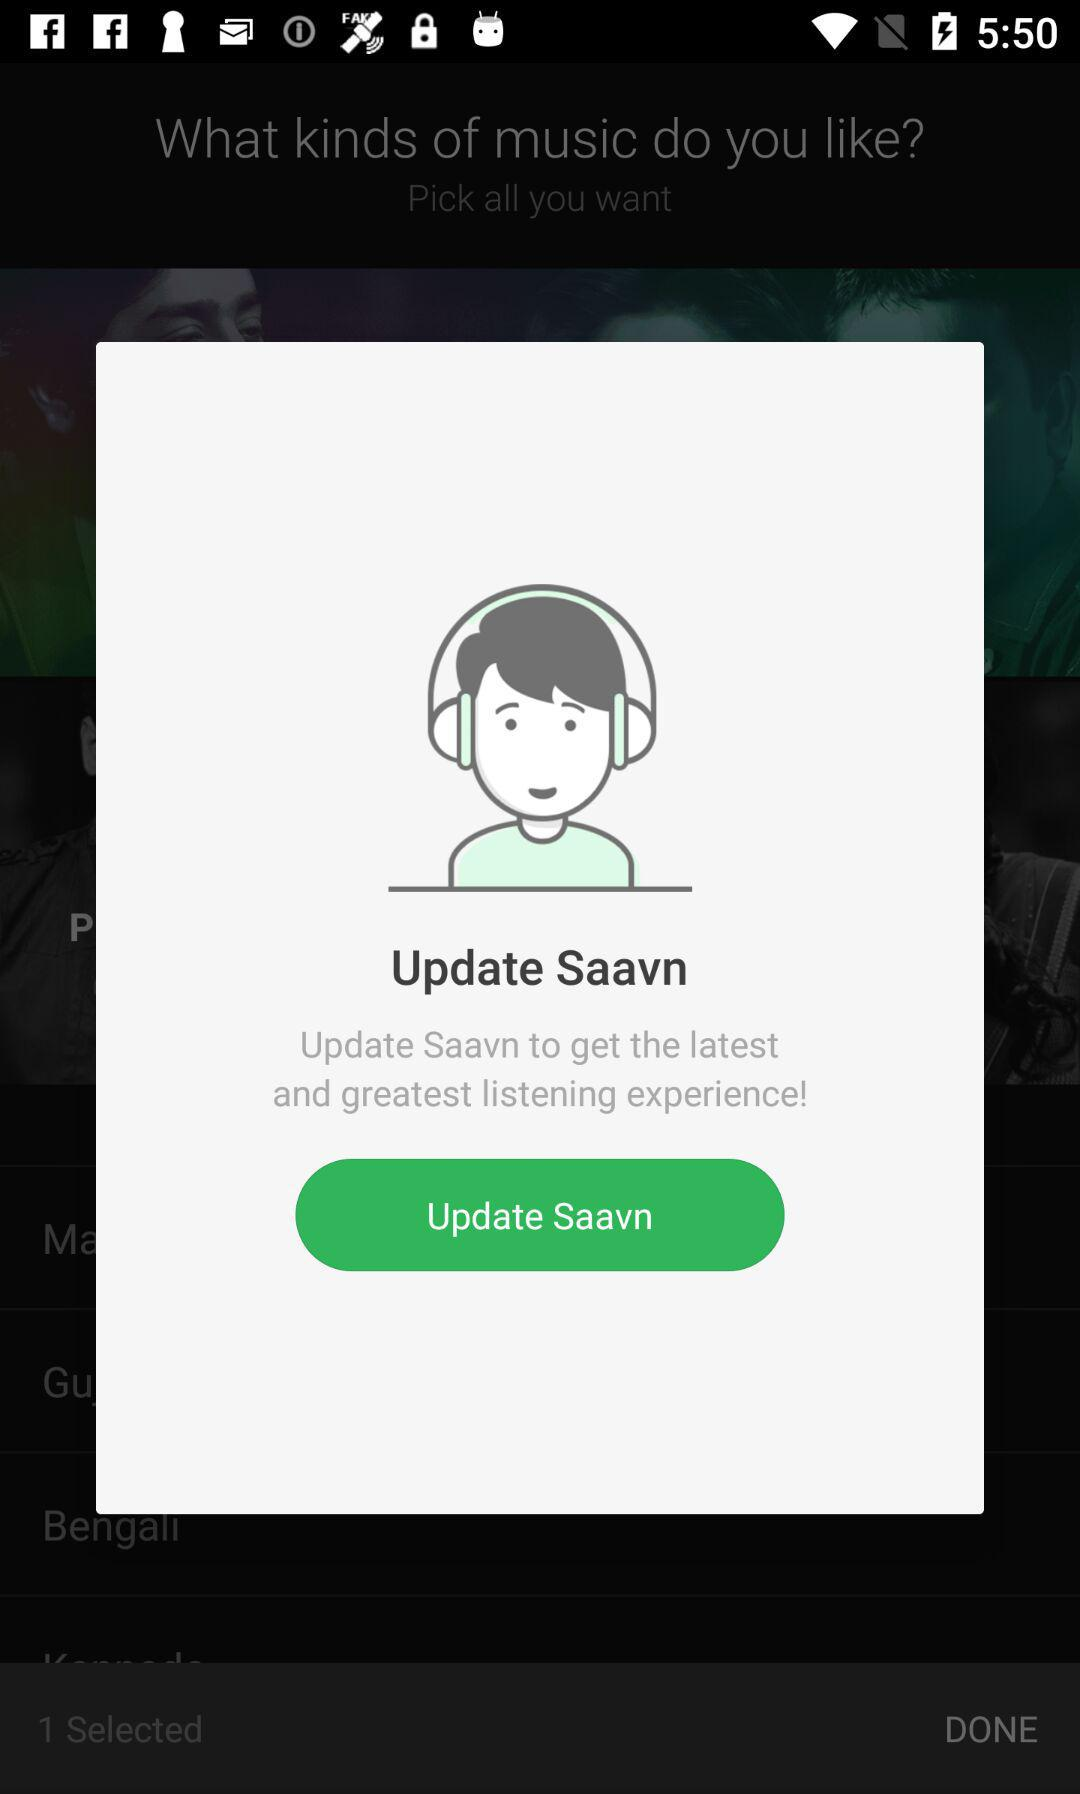Image: (388, 583, 700, 894)
Modal: (96, 342, 985, 1515)
Text: (274, 1029, 807, 1116), (155, 117, 924, 170), (393, 948, 687, 997), (407, 187, 673, 220), (38, 1712, 204, 1744), (945, 1716, 1038, 1744)
TextButton: (295, 1158, 787, 1272)
UpperTaskBar: (1, 1, 1080, 54)
